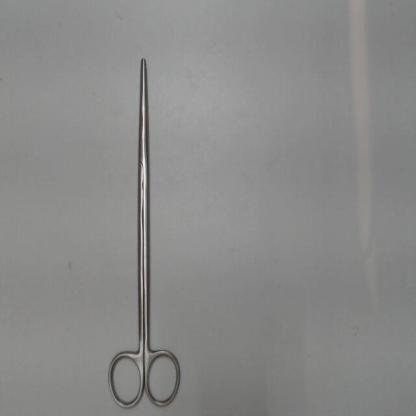9 Metzenbaum Scissors: (105, 50, 190, 412)
